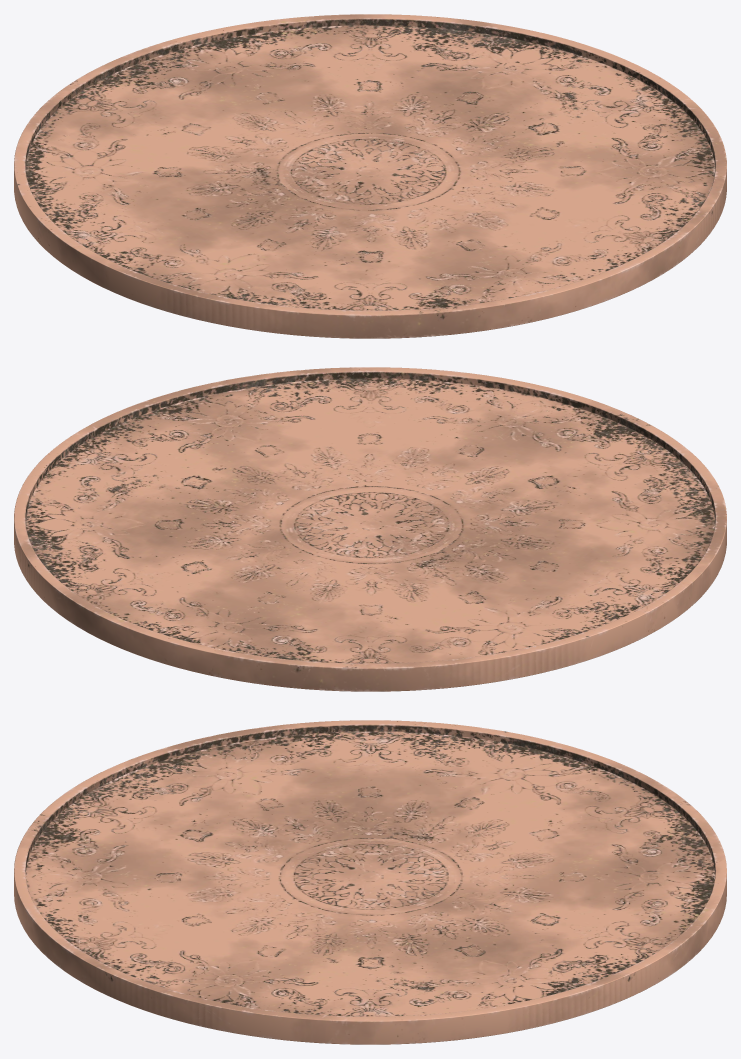
File: copper-coin.glb
3 renders of one model, top to bottom at view 1: azimuth 30°, elevation 25°; view 2: azimuth 150°, elevation 25°; view 3: azimuth 270°, elevation 25°, orthographic.
Visible parts, largest first — view 1: Coin Copper Ornamental; view 2: Coin Copper Ornamental; view 3: Coin Copper Ornamental.
Boxes of the visible parts, x1,y1,x2,y2 form: Coin Copper Ornamental: (14,14,726,338); Coin Copper Ornamental: (14,367,726,691); Coin Copper Ornamental: (14,720,726,1044).
Size of the model in its own units: 0.0344 by 0.00126 by 0.0344.
Materials: 1 (1 with a texture image).
